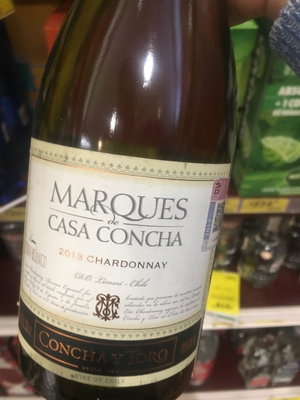marques de casa concha chardonnay: (16, 15, 242, 392)
